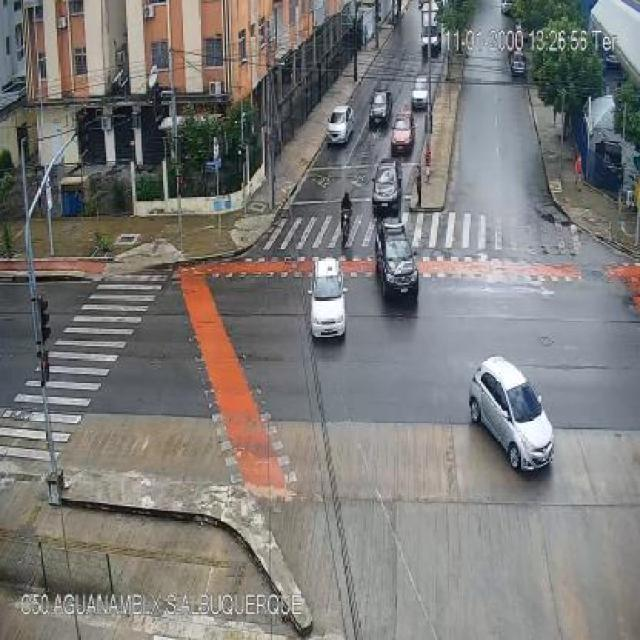Car: (468, 354, 553, 474), (372, 216, 421, 300), (308, 255, 347, 339), (374, 159, 401, 212), (324, 107, 354, 144), (392, 110, 414, 153), (369, 84, 391, 126), (413, 75, 432, 109), (507, 54, 528, 79)
Cycle: (339, 212, 351, 244)
Truck: (420, 10, 441, 57)
